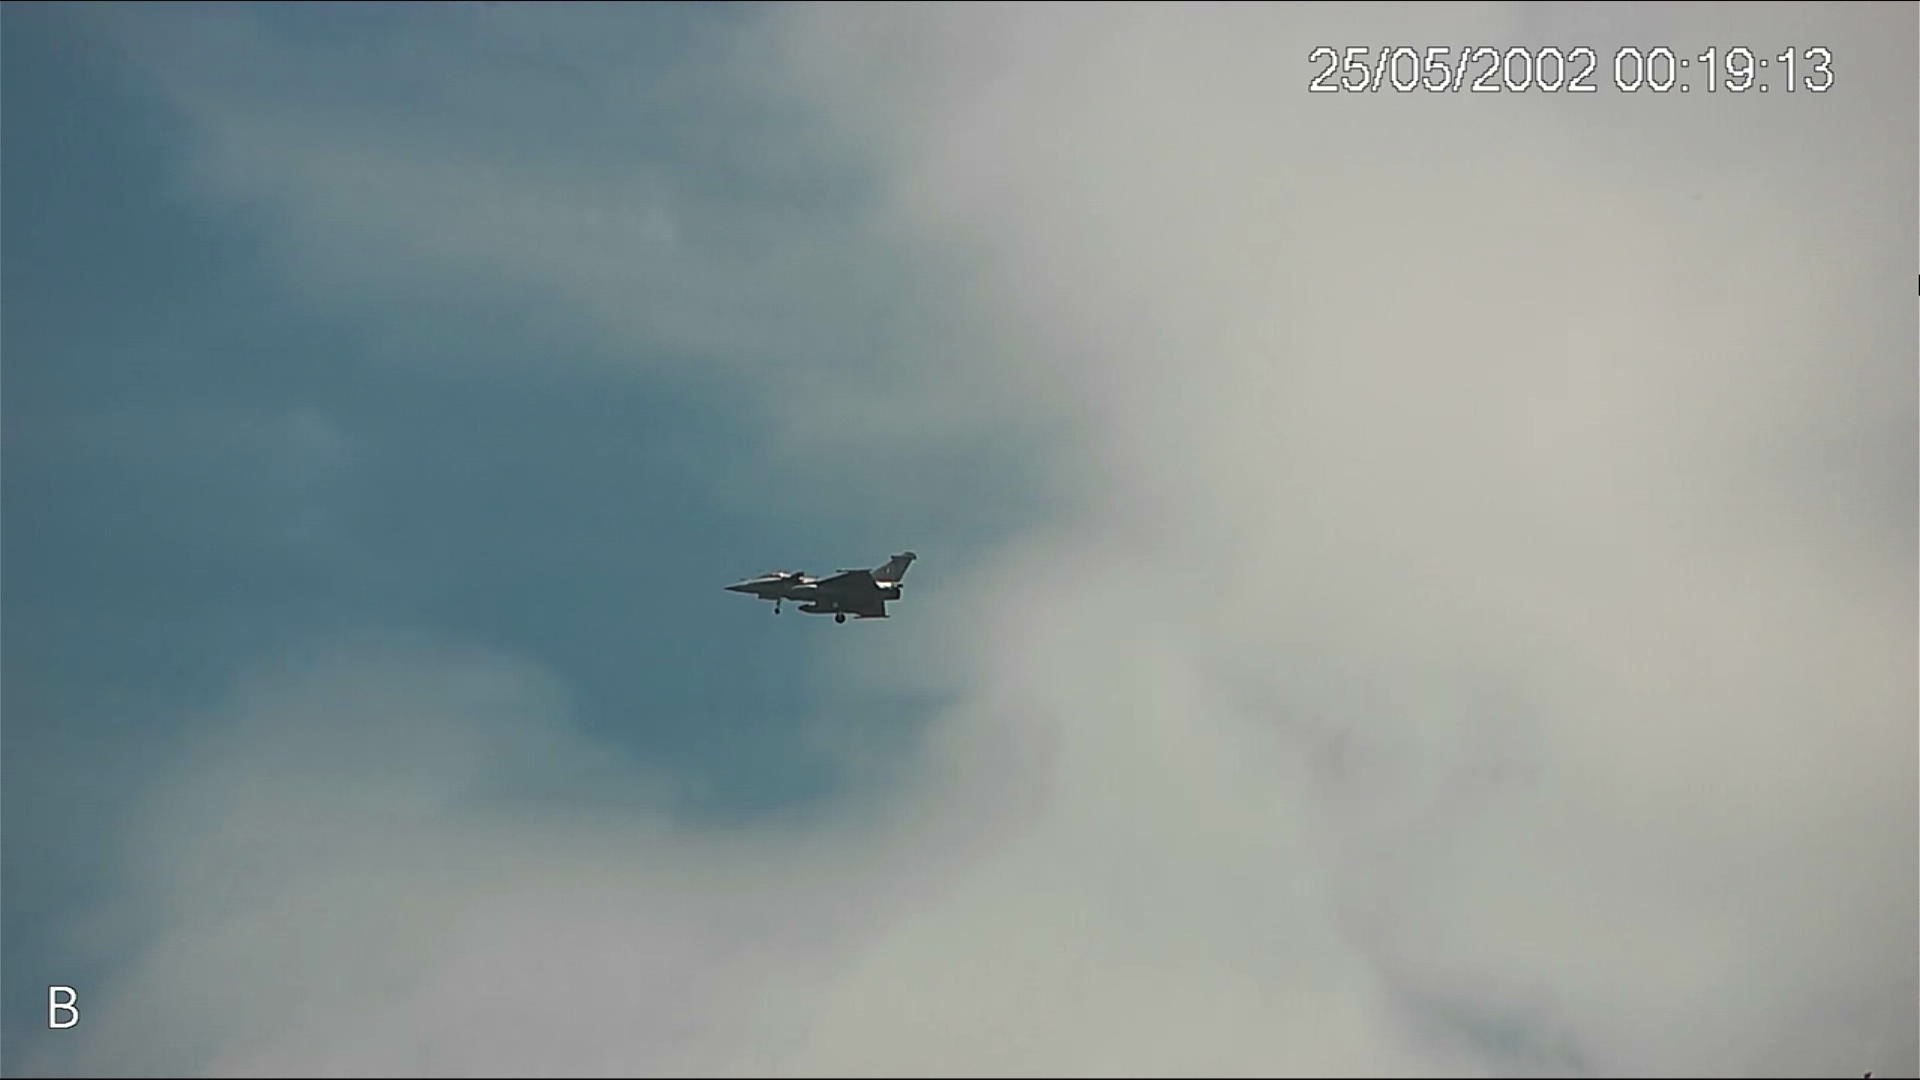SU_30: (716, 549, 926, 626)
